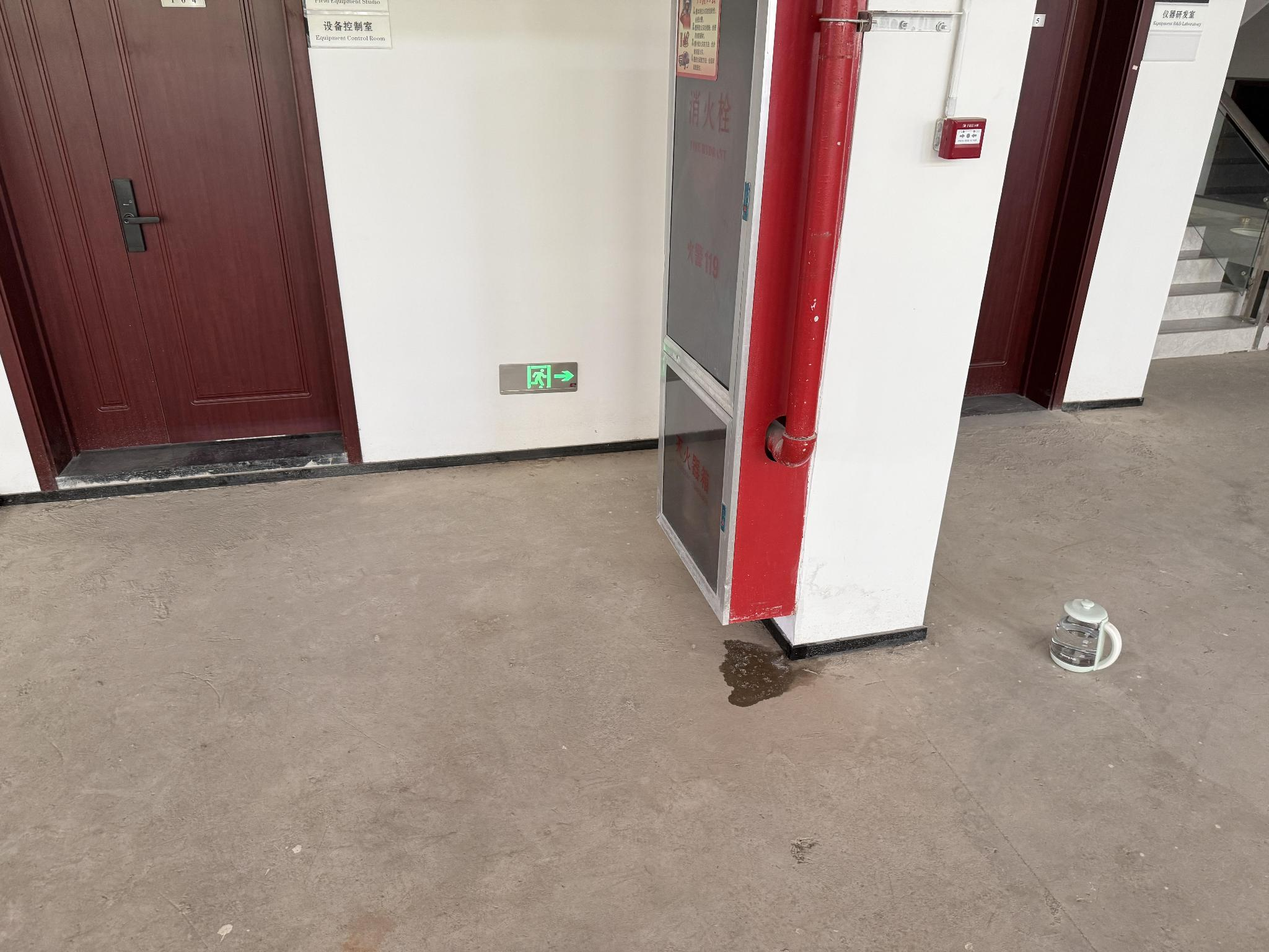water accumulation: (719, 640, 824, 707)
